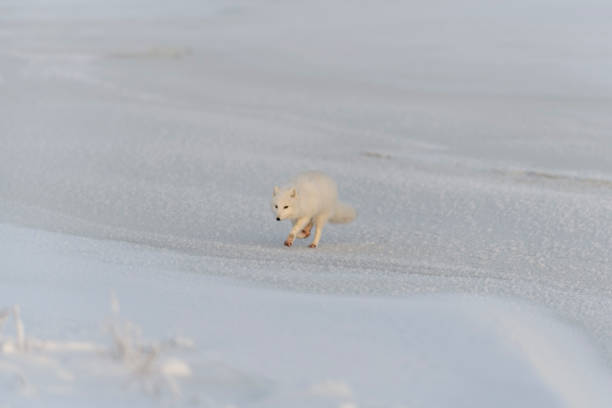arcticfox: (267, 186, 298, 228)
